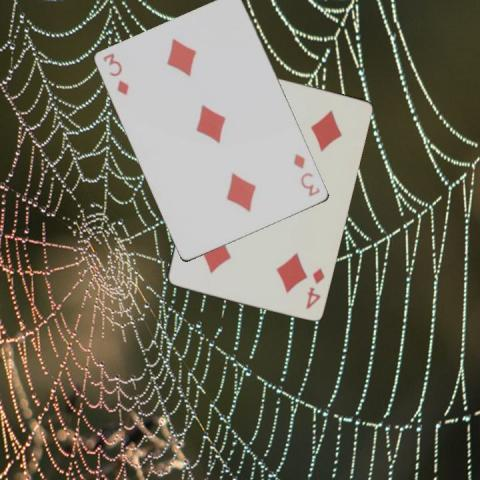3d: (291, 151, 322, 198), (100, 50, 130, 97)
4d: (303, 264, 326, 310)
